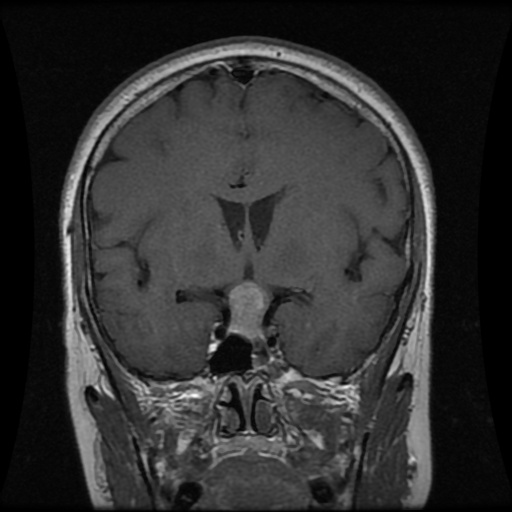pituitary: (227, 281, 272, 337)
